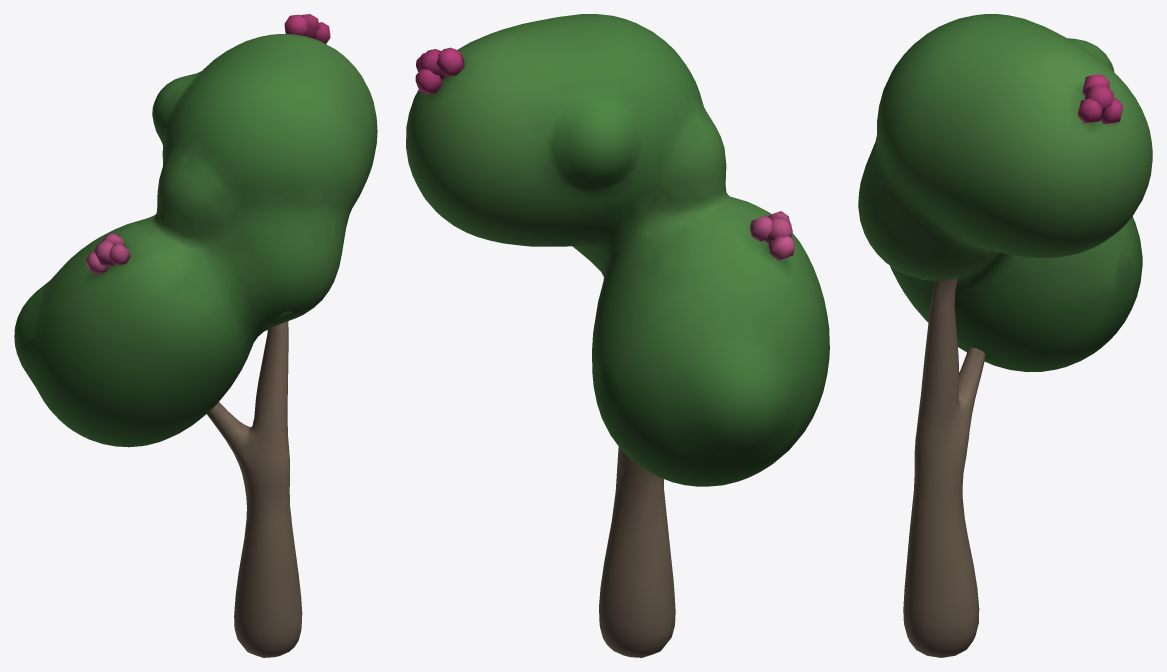
File: tree_07_3.glb
3 views of the same model, side by side, from view 1: azimuth 30°, elevation 25°; view 2: azimuth 150°, elevation 25°; view 3: azimuth 270°, elevation 25° (orthographic). The views are drawn at different scales.
Parts seen in each view (by area): view 1: canopy, bark, blooms; view 2: canopy, bark, blooms; view 3: canopy, bark, blooms.
Boxes of the visible parts, left/top/right/bottom form: canopy: left=14, top=34, right=377, bottom=447; bark: left=207, top=321, right=302, bottom=657; blooms: left=86, top=14, right=330, bottom=274; canopy: left=406, top=14, right=829, bottom=486; bark: left=599, top=447, right=675, bottom=657; blooms: left=415, top=47, right=794, bottom=260; canopy: left=858, top=14, right=1152, bottom=371; bark: left=903, top=278, right=985, bottom=657; blooms: left=1078, top=74, right=1123, bottom=123.
Bounding box in the file's own units: 1.53 × 2.5 × 1.04.
